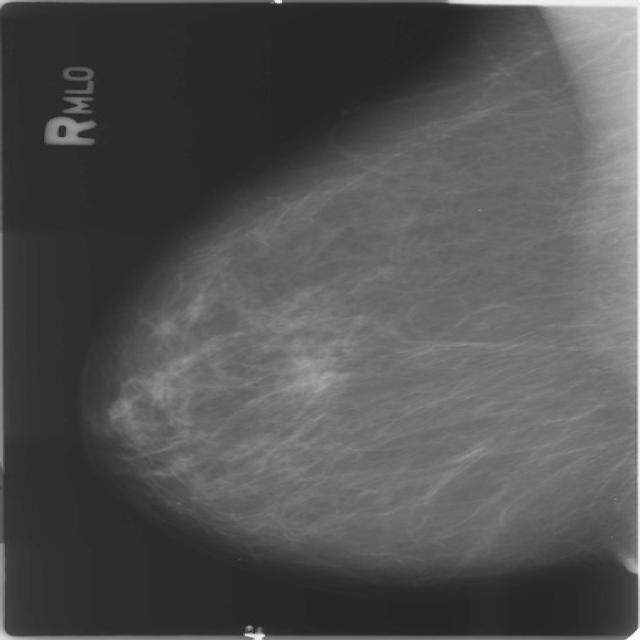tumour: (285, 349, 338, 398)
